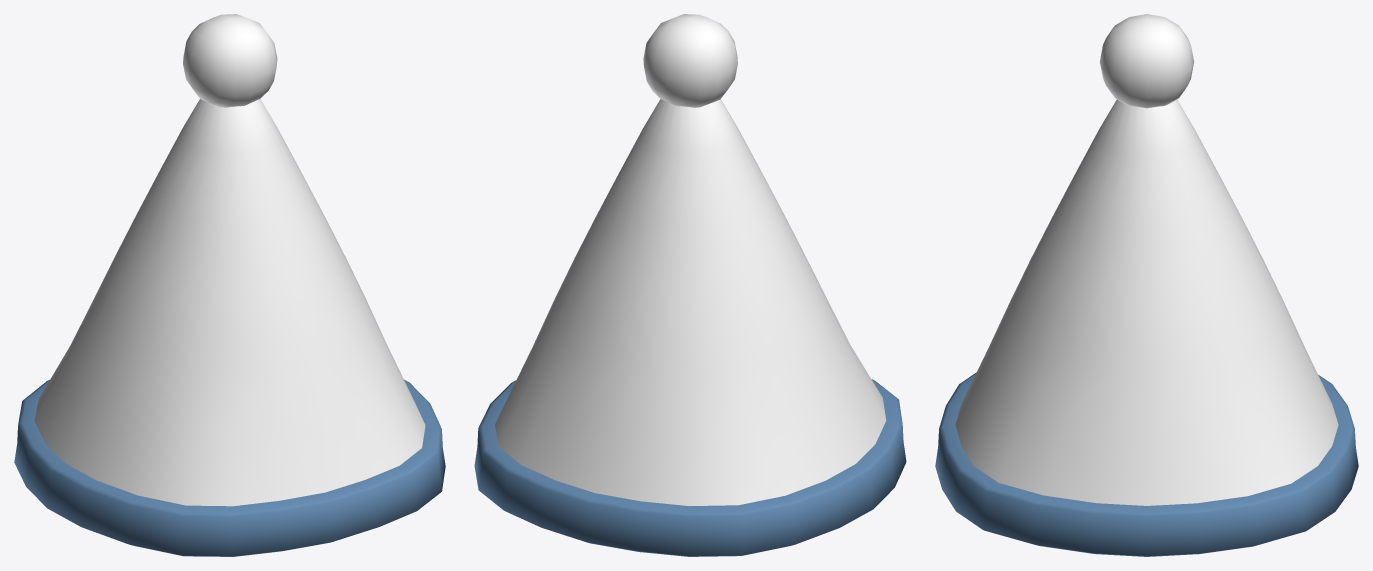
File: magePawn_icehat1.fbx
The picture shows the model from 3 angles, left to right: view 1: azimuth 30°, elevation 25°; view 2: azimuth 150°, elevation 25°; view 3: azimuth 270°, elevation 25°; orthographic projection.
Visible parts, largest first — view 1: wizIceHat1exp; view 2: wizIceHat1exp; view 3: wizIceHat1exp.
Part boxes in pixels (box(x1,y1,x2,y2)): wizIceHat1exp: box(14, 14, 445, 556); wizIceHat1exp: box(474, 14, 906, 556); wizIceHat1exp: box(935, 14, 1358, 556).
Size of the model in its own units: 151 by 178 by 151.
